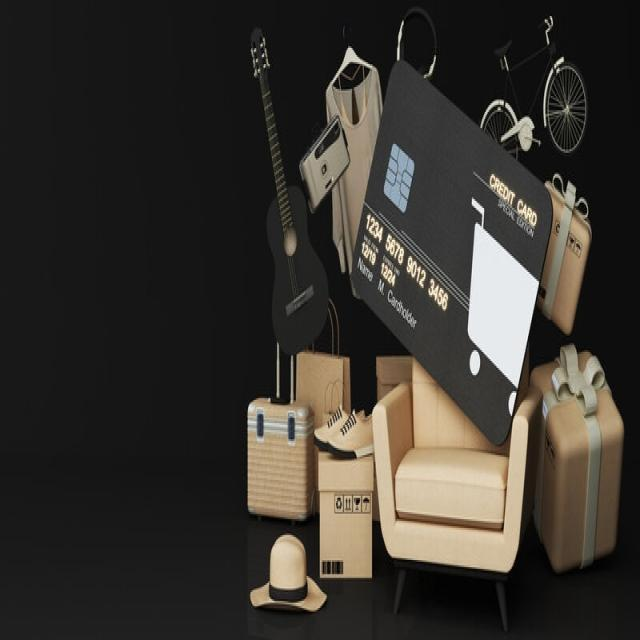payment_card: (348, 58, 554, 447)
